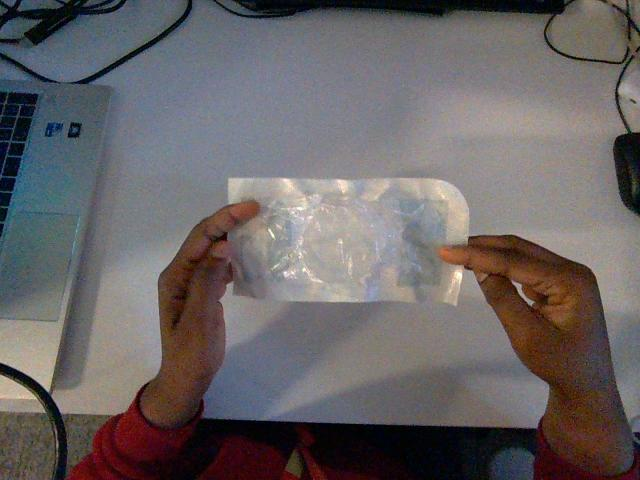gallipot: (228, 178, 468, 304)
